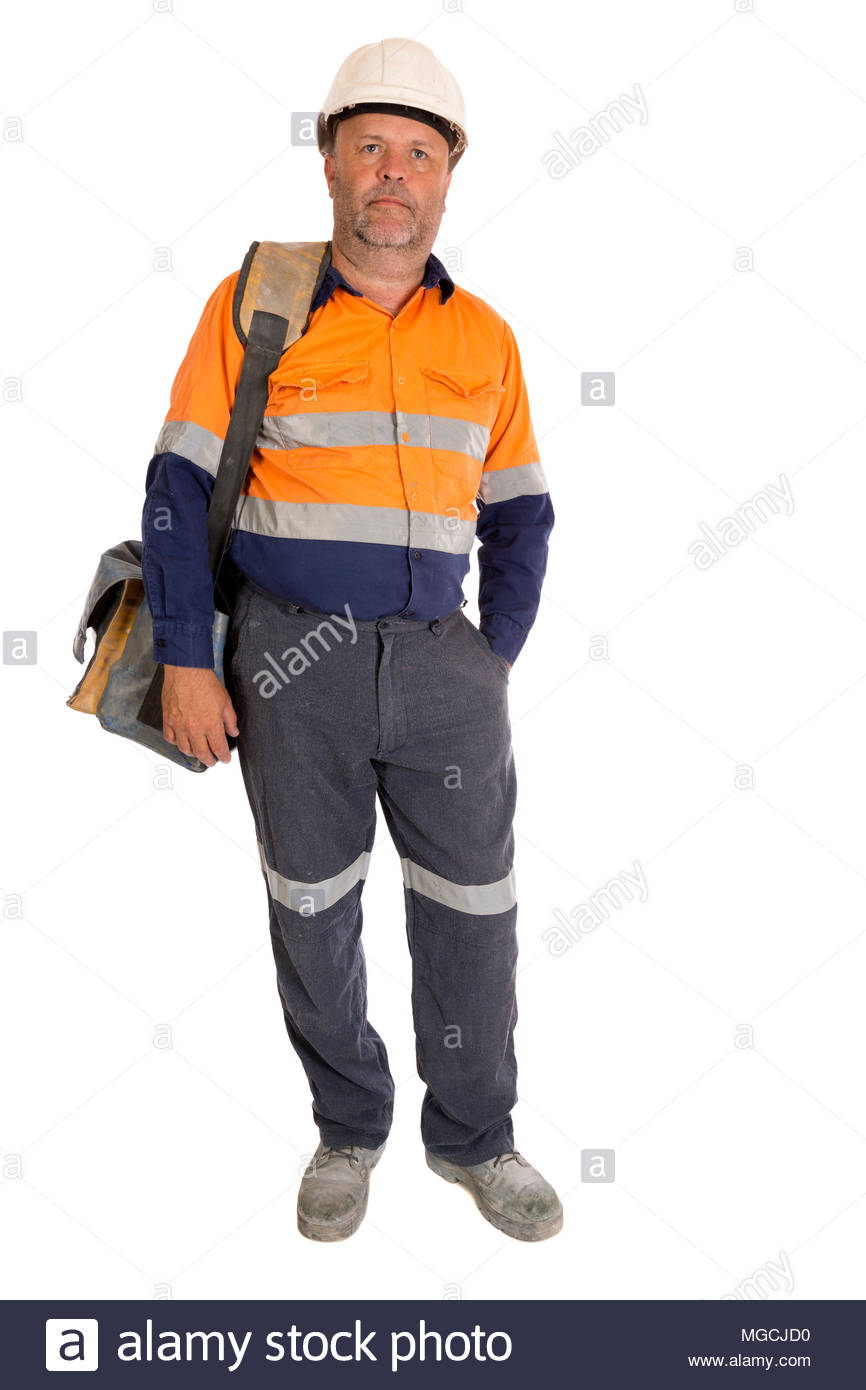Person_wearing_helmet: (300, 28, 481, 179)
